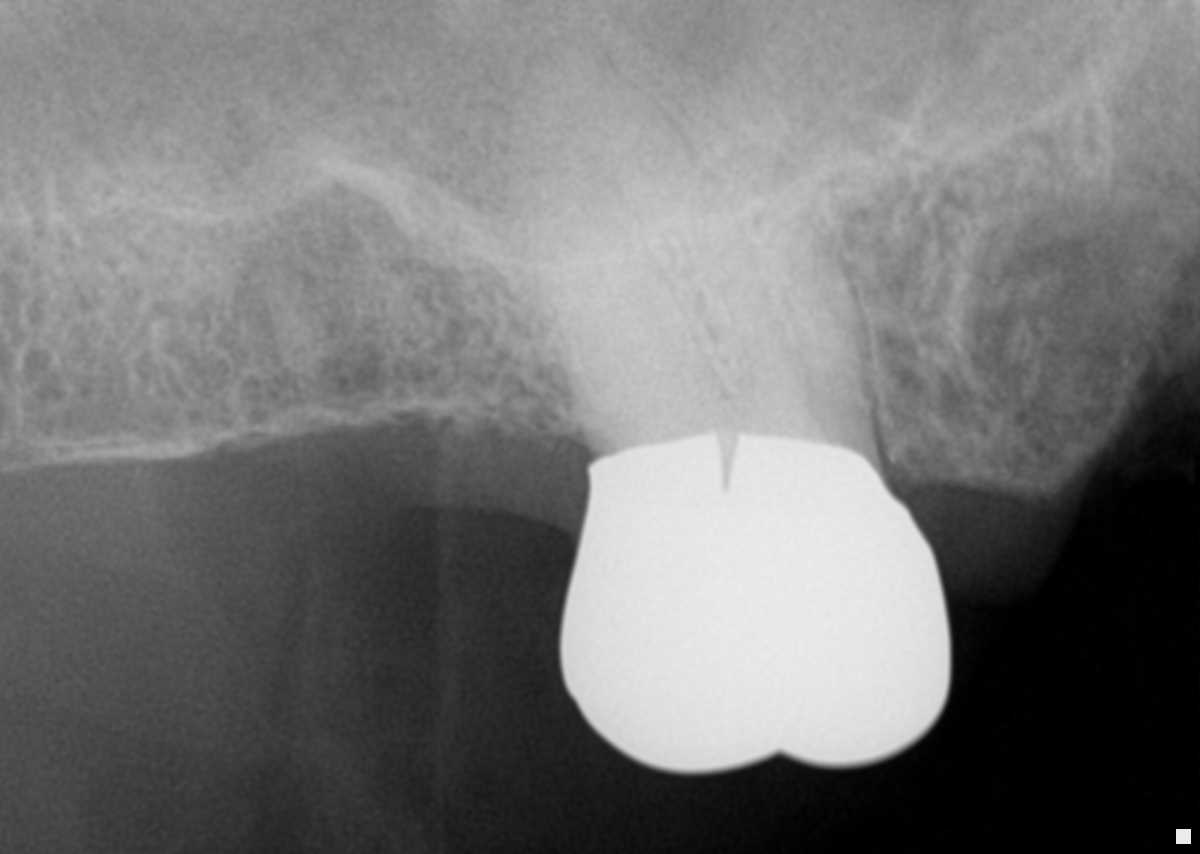Distal Root: (695, 149, 875, 435)
Mesial Root: (537, 132, 723, 438)
Palatal Root: (510, 27, 815, 445)
